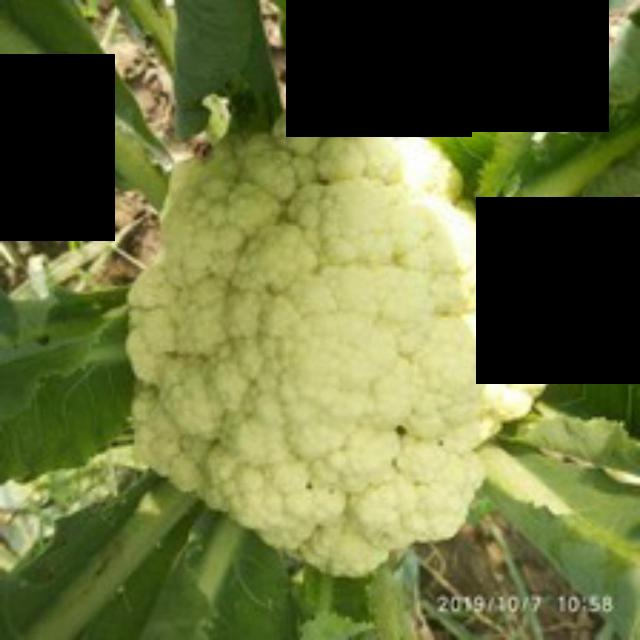cauliflower: (119, 97, 573, 586)
